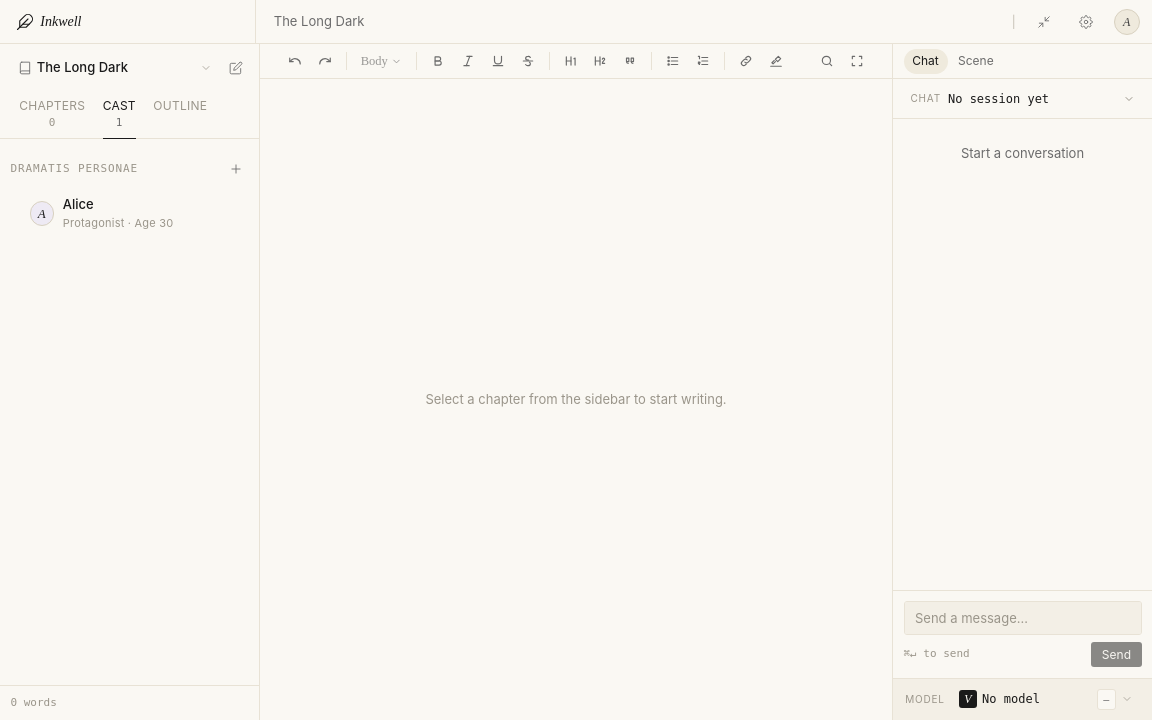
EditorPage character popover (F54) › clicking a cast card opens the character popover
Click the text "Alice": [78, 204] box [63, 196, 94, 212]
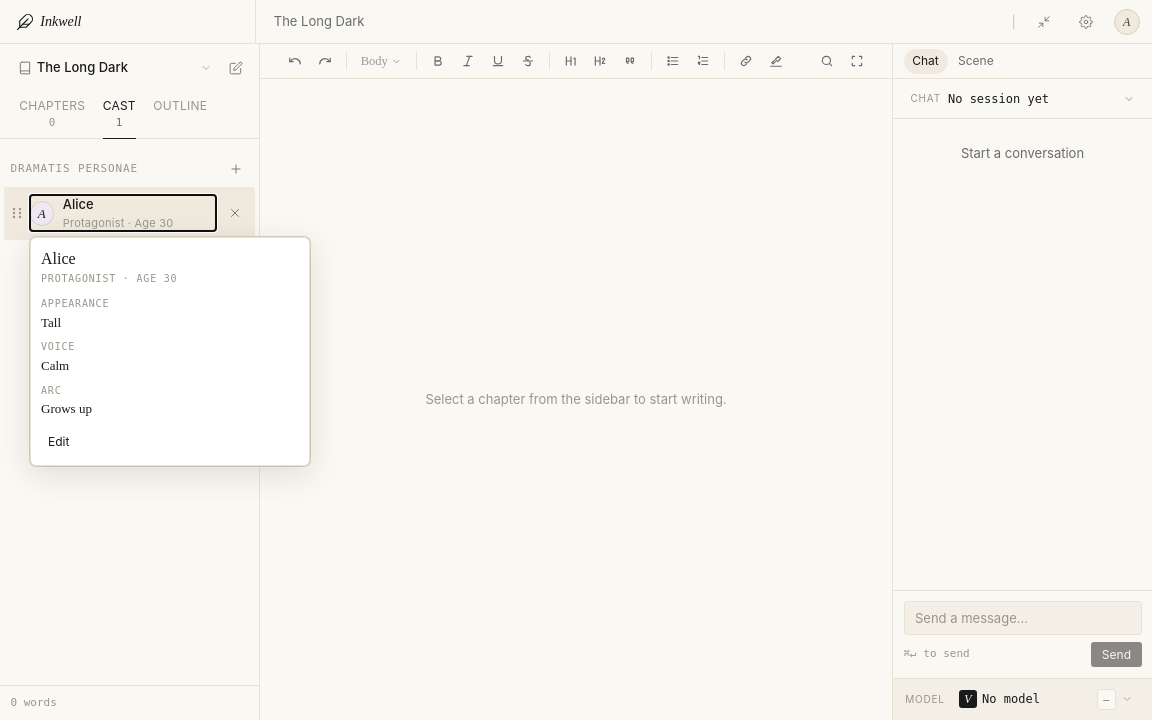
Expected: the dialog is shown, [30, 237, 310, 466]
